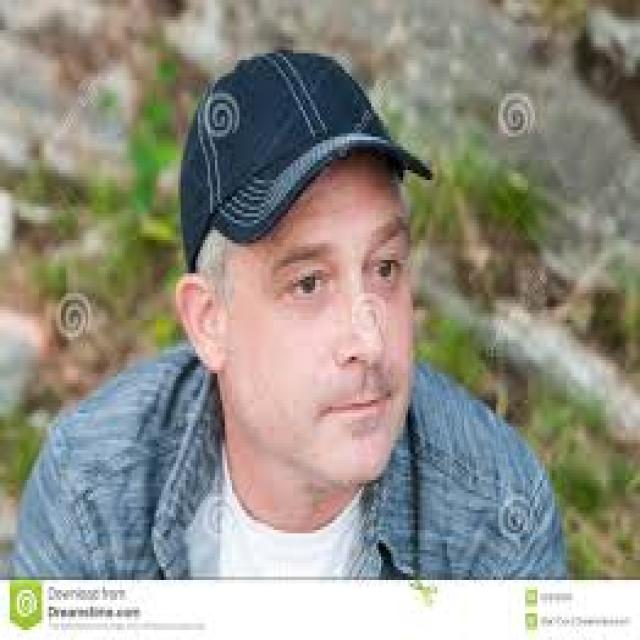3_gorra: (177, 47, 434, 263)
